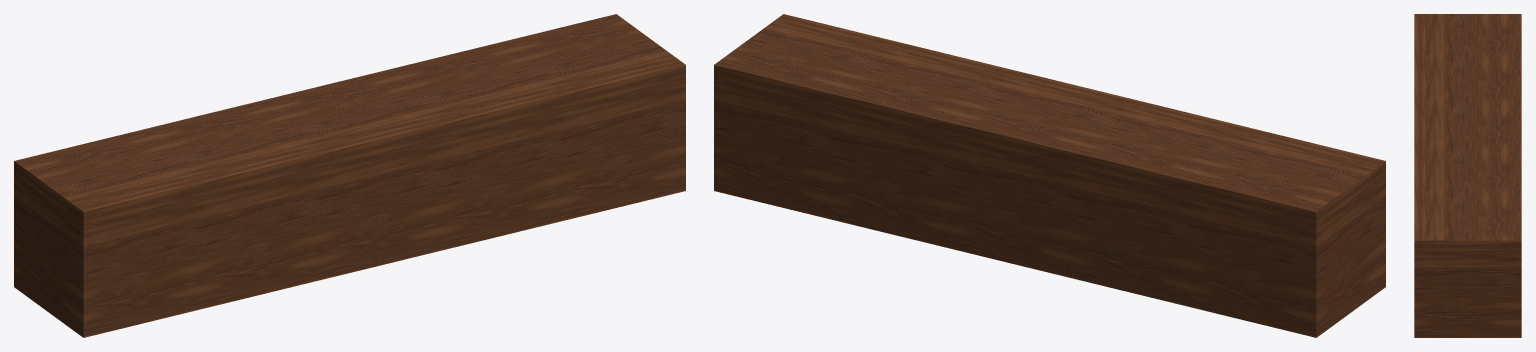
The model's file is MovingWall5.gltf.
The picture shows the model from 3 angles, left to right: view 1: azimuth 30°, elevation 25°; view 2: azimuth 150°, elevation 25°; view 3: azimuth 270°, elevation 25°; orthographic projection. The views are drawn at different scales.
Visible parts, largest first — view 1: Cube; view 2: Cube; view 3: Cube.
Boxes of the visible parts, x1,y1,x2,y2 form: Cube: (14, 14, 685, 337); Cube: (714, 14, 1385, 337); Cube: (1414, 14, 1521, 337).
Size of the model in its own units: 1 by 0.2 by 0.2.
Materials: 2 (2 with a texture image).
